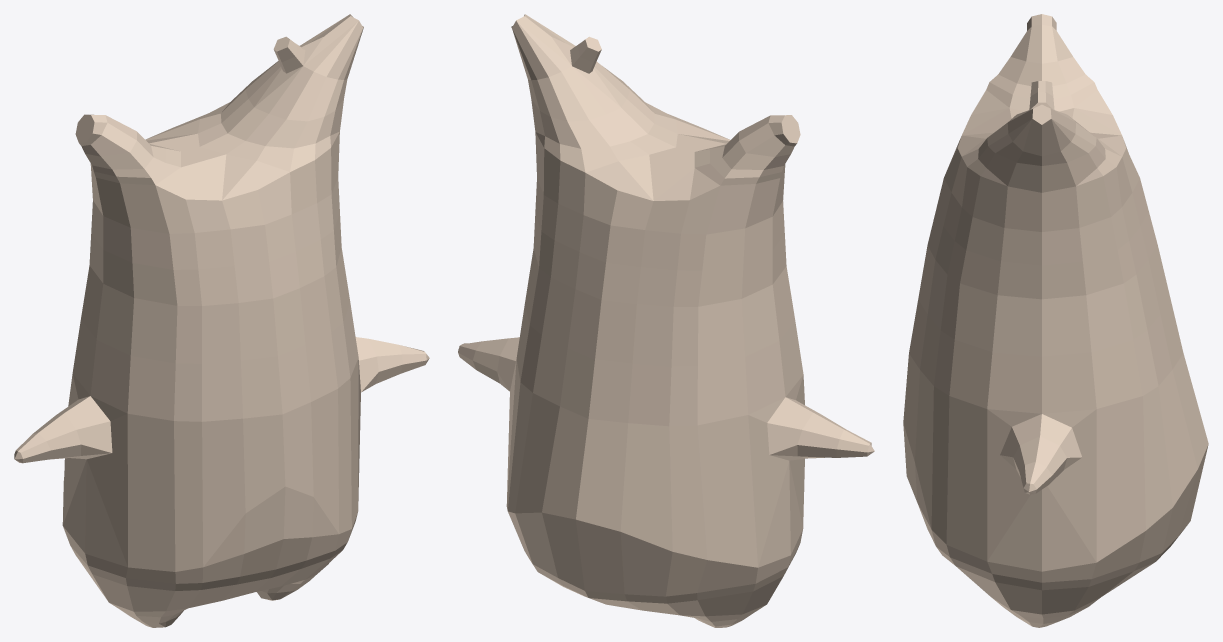
Rendered from frame_0019.obj.
3 renders of one model, left to right at view 1: azimuth 30°, elevation 25°; view 2: azimuth 150°, elevation 25°; view 3: azimuth 270°, elevation 25°, orthographic.
Parts seen in each view (by area): view 1: korok; view 2: korok; view 3: korok.
Boxes of the visible parts, x1,y1,x2,y2 form: korok: (14,14,429,627); korok: (458,14,874,627); korok: (903,14,1208,627).
Size of the model in its own units: 1.66 by 2.16 by 1.07.
